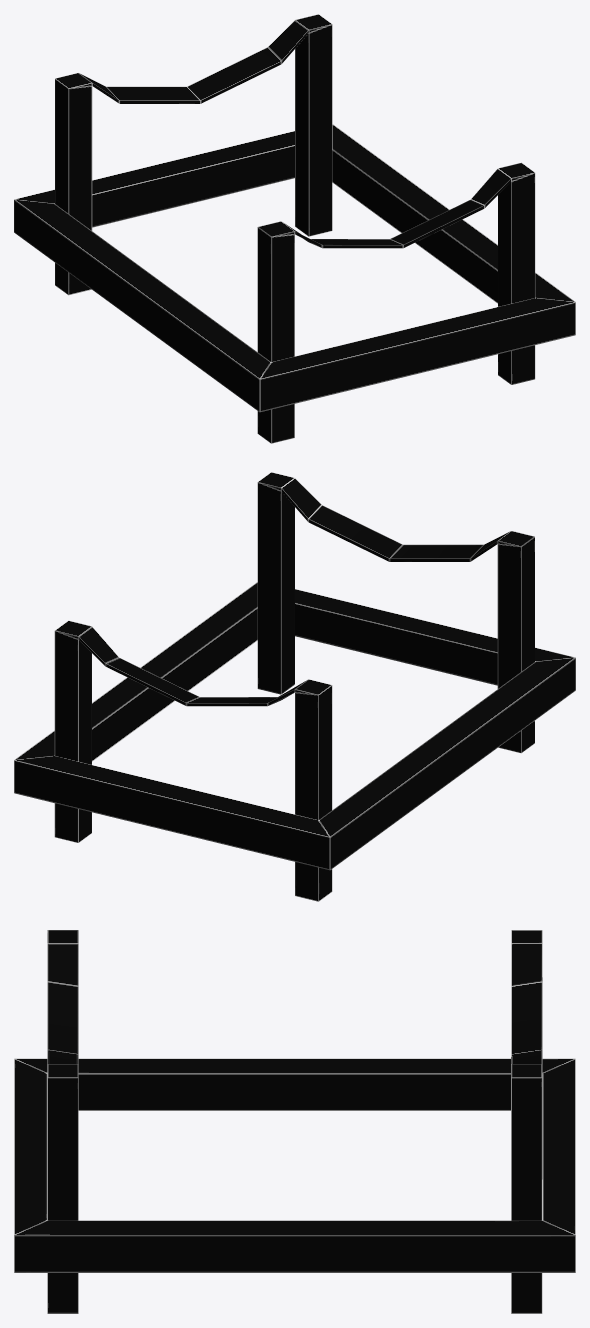
The model's file is Barrel Stand.fbx.
3 views of the same model, one above another, from view 1: azimuth 30°, elevation 25°; view 2: azimuth 150°, elevation 25°; view 3: azimuth 270°, elevation 25° (orthographic). The views are drawn at different scales.
Parts seen in each view (by area): view 1: Barrel_Stand; view 2: Barrel_Stand; view 3: Barrel_Stand.
Part boxes in pixels (x1,y1,x2,y2): Barrel_Stand: (14, 14, 575, 443); Barrel_Stand: (14, 472, 575, 901); Barrel_Stand: (14, 930, 575, 1313).
Size of the model in its own units: 2 by 1.25 by 2.69.
